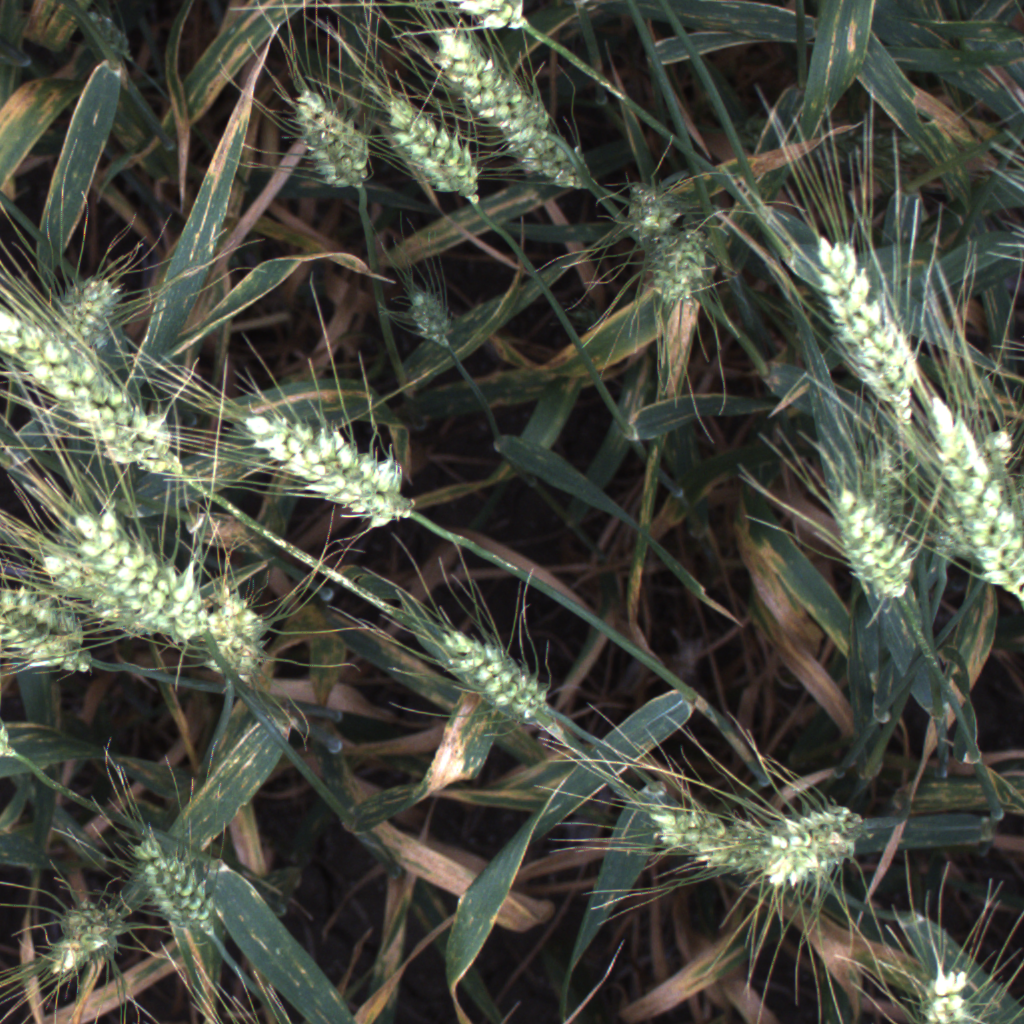wheat_head: (0, 302, 194, 488), (800, 222, 926, 432), (236, 404, 421, 531), (918, 386, 1023, 608), (58, 500, 217, 641), (24, 544, 217, 654), (427, 27, 561, 147), (428, 609, 557, 728), (631, 798, 815, 879), (929, 420, 1022, 574), (378, 88, 490, 208), (826, 475, 922, 608), (285, 85, 376, 194), (41, 888, 133, 983), (126, 826, 195, 941), (206, 586, 277, 694), (48, 258, 124, 357), (507, 126, 610, 198), (636, 221, 715, 312), (759, 802, 886, 857), (1, 615, 105, 680), (759, 840, 875, 897), (0, 580, 91, 651), (909, 951, 993, 1024), (155, 854, 223, 943), (614, 173, 690, 250), (397, 265, 461, 354), (438, 0, 540, 35), (0, 713, 25, 770)
